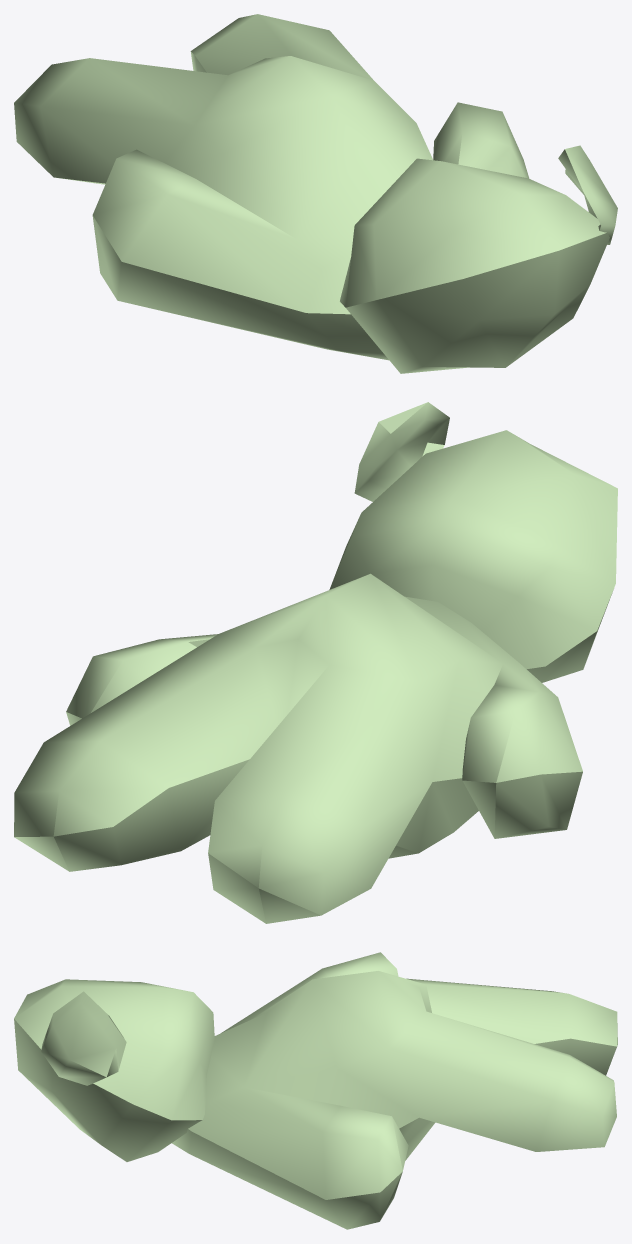
File: Teddy Bear.fbx
The picture shows the model from 3 angles, top to bottom: view 1: azimuth 30°, elevation 25°; view 2: azimuth 150°, elevation 25°; view 3: azimuth 270°, elevation 25°; orthographic projection. The views are drawn at different scales.
Parts seen in each view (by area): view 1: teddy_bear; view 2: teddy_bear; view 3: teddy_bear.
Part boxes in pixels (box(x1,y1,x2,y2)): teddy_bear: box(14, 14, 617, 373); teddy_bear: box(14, 402, 617, 923); teddy_bear: box(14, 952, 617, 1229).
Size of the model in its own units: 1756 by 1042 by 2627.
